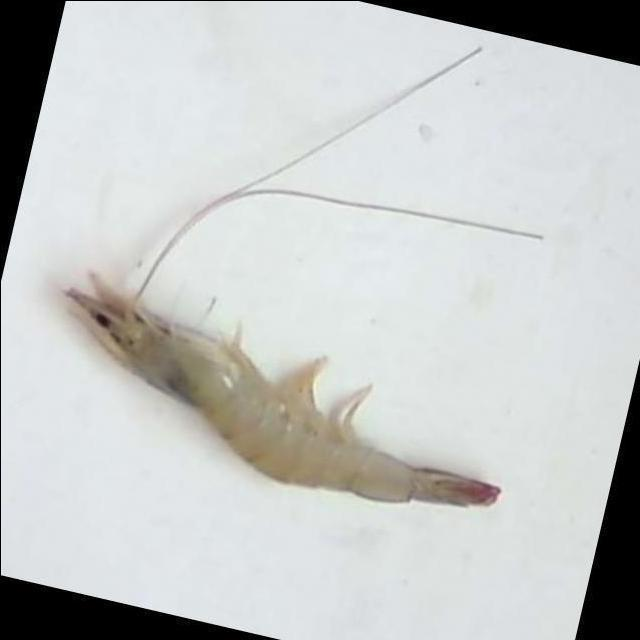shrimp: (64, 279, 497, 506)
